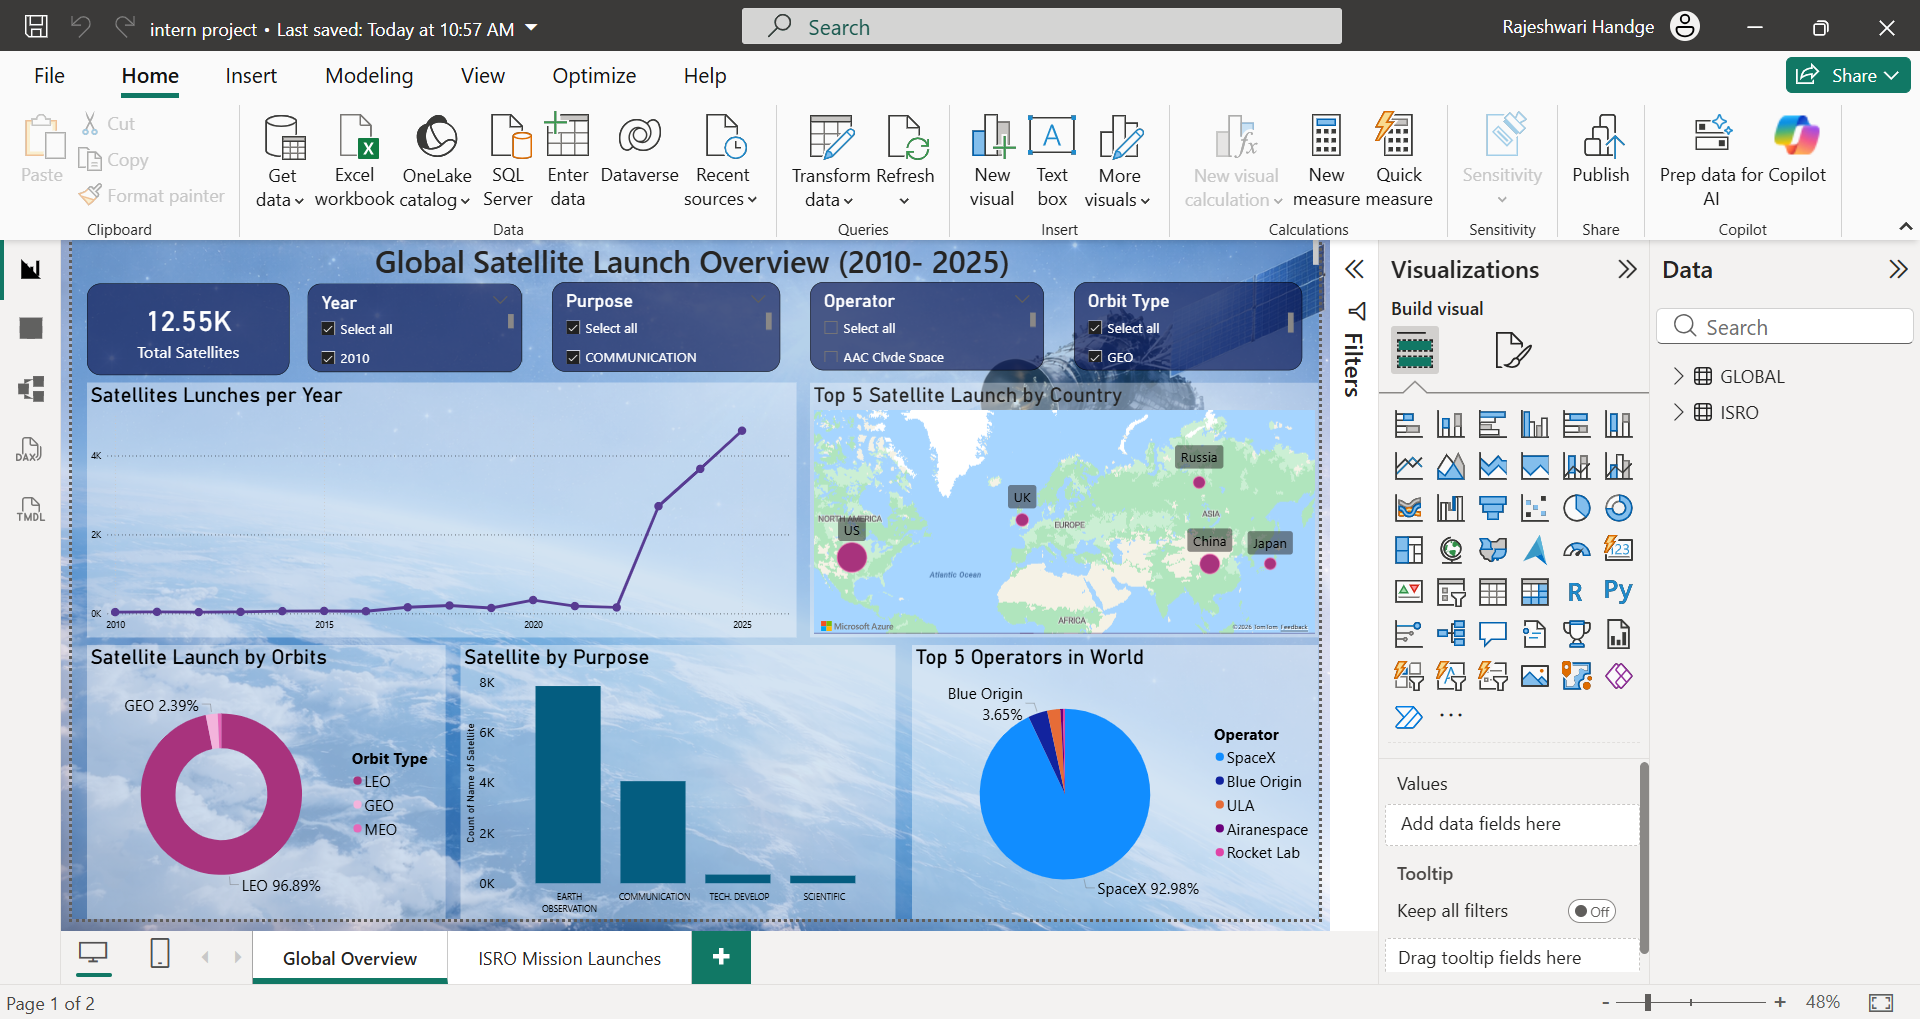

The page's visual inventory and layout, read from the dashboard file:
{"tool":"powerbi","page":{"name":"Global Overview","canvas":[1740,948],"ordinal":0},"visuals":[{"type":"textbox","box":[0,0,1740.4,56.5],"z":0},{"type":"lineChart","title":"Satellites Lanches per Year","fields":{"Category":["GLOBAL.Year"],"Y":["CountNonNull(GLOBAL.Name of Satellite)"]},"box":[20.9,199,990.6,356],"z":1000},{"type":"clusteredColumnChart","title":" Satellite Launch by Purpose","fields":{"Category":["GLOBAL.Purpose"],"Y":["CountNonNull(GLOBAL.Name of Satellite)"]},"box":[542.4,565.5,607.3,383.3],"z":2000},{"type":"donutChart","title":" Satellite Launch by Orbits","fields":{"Category":["GLOBAL.Orbit_type"],"Y":["CountNonNull(GLOBAL.Name of Satellite)"]},"box":[20.9,565.5,500.5,383.3],"z":3000},{"type":"card","fields":{"Values":["CountNonNull(GLOBAL.Name of Satellite)"]},"box":[20.9,60.7,282.7,127.8],"z":4000},{"type":"slicer","fields":{"Values":["GLOBAL.Year"]},"box":[328.8,60.7,299.5,123.6],"z":5000},{"type":"slicer","fields":{"Values":["GLOBAL.Purpose"]},"box":[670.2,58.6,318.3,125.7],"z":6000},{"type":"slicer","fields":{"Values":["GLOBAL.Orbit_type"]},"box":[1399,58.6,318.3,123.6],"z":7000},{"type":"pieChart","title":"Top 5 Operators in World","fields":{"Category":["GLOBAL.Operator"],"Y":["CountNonNull(GLOBAL.Country)"]},"box":[1173.1,565.8,545,382.9],"z":8000},{"type":"slicer","fields":{"Values":["GLOBAL.Operator"]},"box":[1030.4,58.6,326.7,123.6],"z":9000},{"type":"azureMap","title":"Top 5  Satellite Launch by Country","fields":{"Category":["GLOBAL.Country"]},"box":[1029.7,198,688.4,356.5],"z":10000}]}

Visuals, with their boxes on the page's 1740x948 design canvas (x1, y1, x2, y2). These are canvas units, not pixel positions in the 1920x1019 screenshot, which may show the page scaled, cropped or inside an application window:
textbox: x1=0 y1=0 x2=1740 y2=56
"Satellites Lanches per Year" lineChart: x1=21 y1=199 x2=1012 y2=555
" Satellite Launch by Purpose" clusteredColumnChart: x1=542 y1=566 x2=1150 y2=949
" Satellite Launch by Orbits" donutChart: x1=21 y1=566 x2=521 y2=949
card - CountNonNull(GLOBAL.Name of Satellite): x1=21 y1=61 x2=304 y2=188
slicer - GLOBAL.Year: x1=329 y1=61 x2=628 y2=184
slicer - GLOBAL.Purpose: x1=670 y1=59 x2=988 y2=184
slicer - GLOBAL.Orbit_type: x1=1399 y1=59 x2=1717 y2=182
"Top 5 Operators in World" pieChart: x1=1173 y1=566 x2=1718 y2=949
slicer - GLOBAL.Operator: x1=1030 y1=59 x2=1357 y2=182
"Top 5  Satellite Launch by Country" azureMap: x1=1030 y1=198 x2=1718 y2=554
